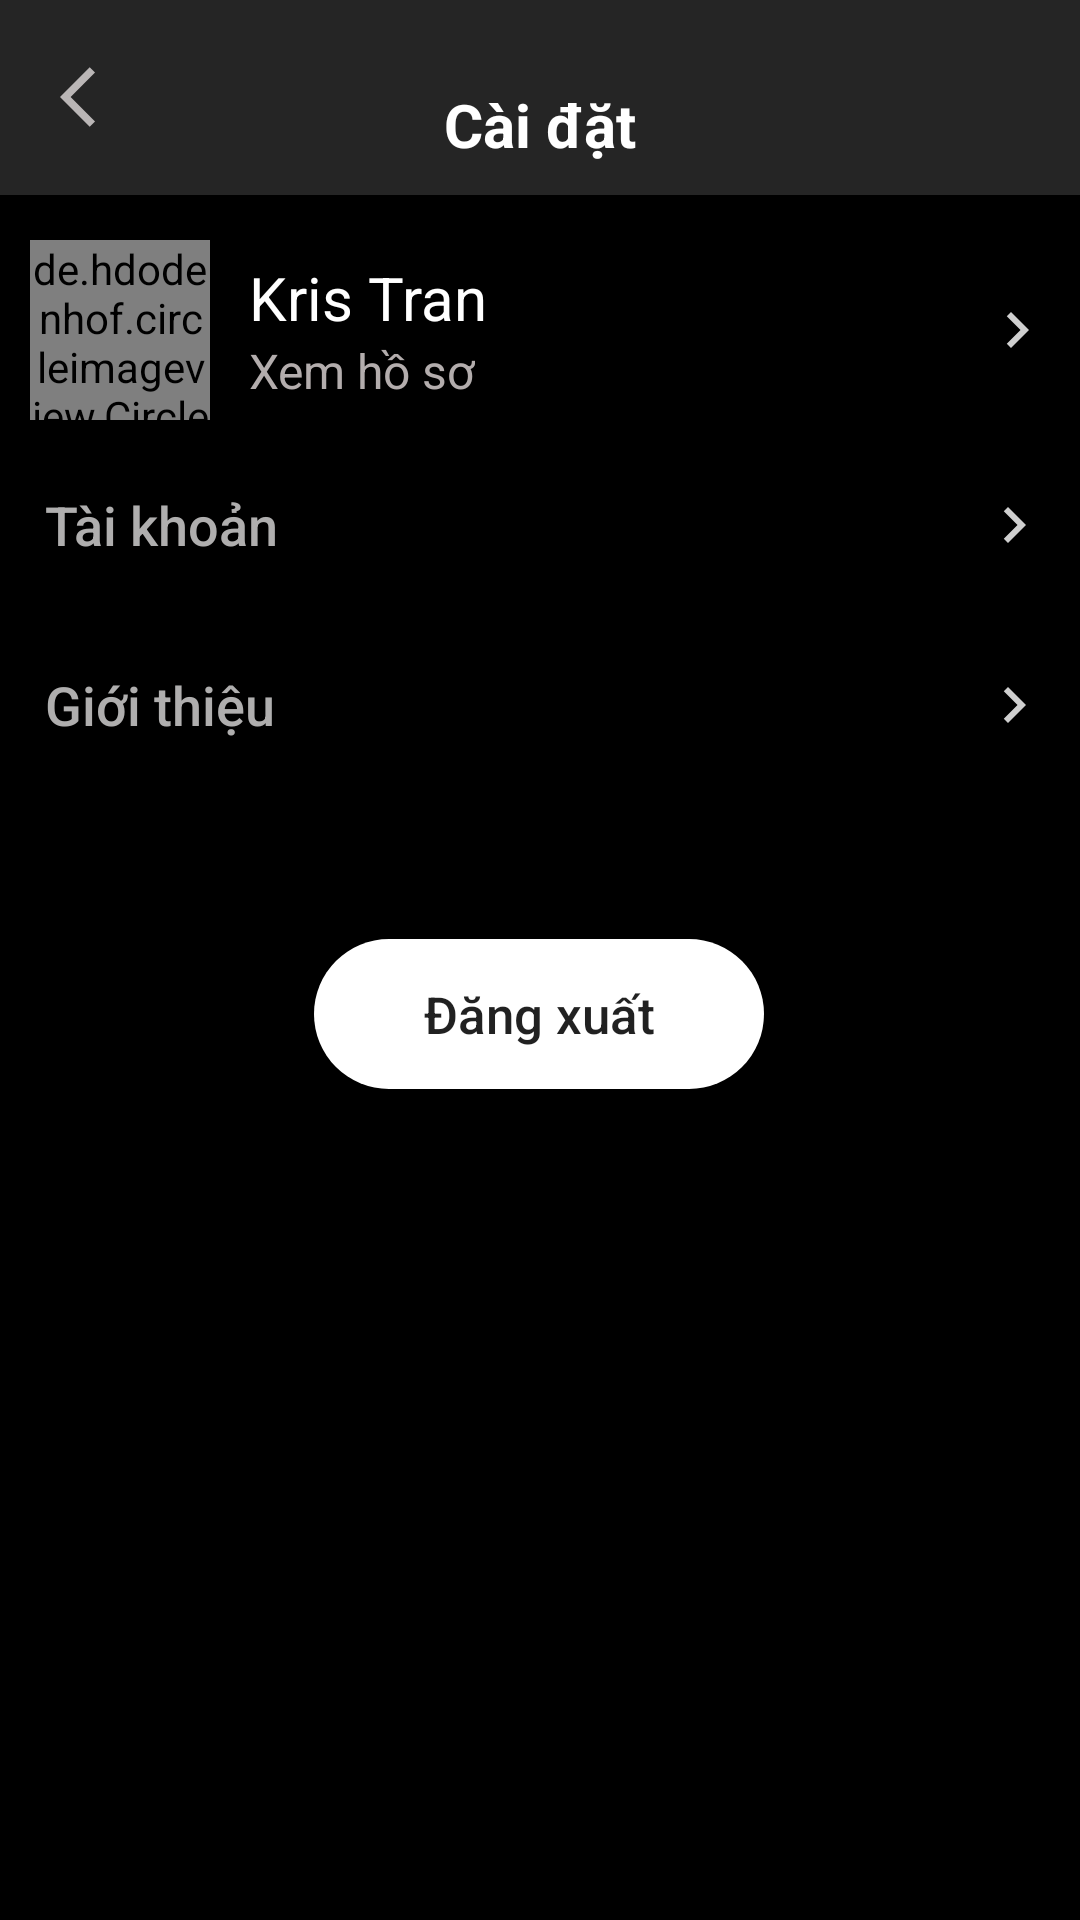

Icons on this 1080*1920 Android screen, each with its box as bbox=(x1, y1, x2, y2):
back: bbox=(60, 67, 95, 127)
next: bbox=(1007, 312, 1029, 348)
